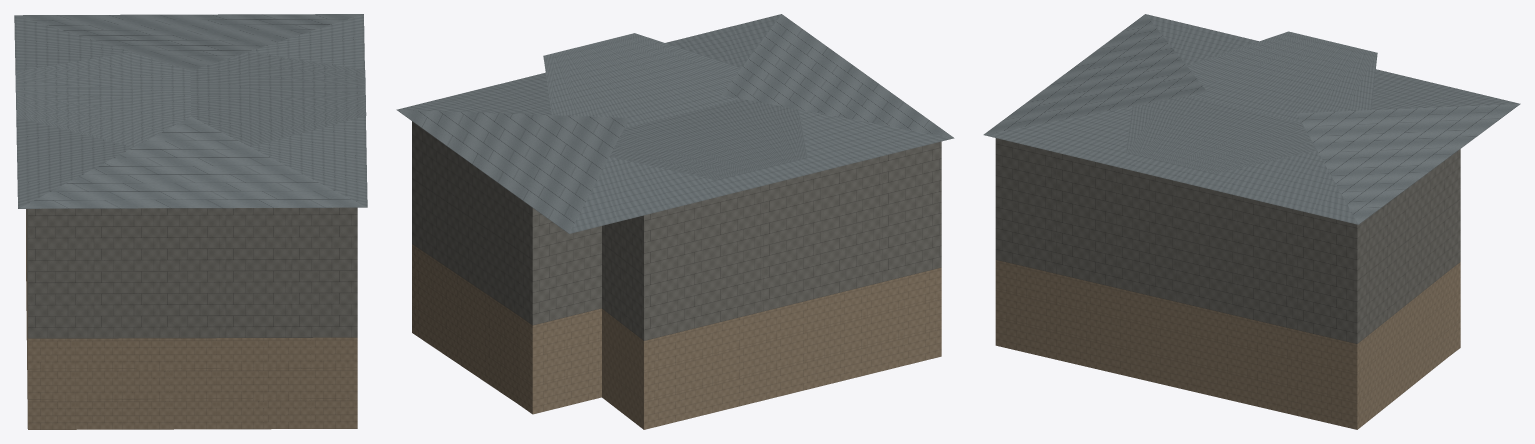
Rendered from bld_c-20_17_525.gltf.
The picture shows the model from 3 angles, left to right: view 1: azimuth 30°, elevation 25°; view 2: azimuth 150°, elevation 25°; view 3: azimuth 270°, elevation 25°; orthographic projection. The views are drawn at different scales.
Visible parts, largest first — view 1: bld_c-20_17_525; view 2: bld_c-20_17_525; view 3: bld_c-20_17_525.
Part boxes in pixels (box(x1,y1,x2,y2)): bld_c-20_17_525: box(14, 14, 367, 429); bld_c-20_17_525: box(396, 14, 954, 429); bld_c-20_17_525: box(983, 14, 1520, 429).
Bounding box in the file's own units: 26.87 × 13.6 × 28.95.
3 materials, 3 textured.
